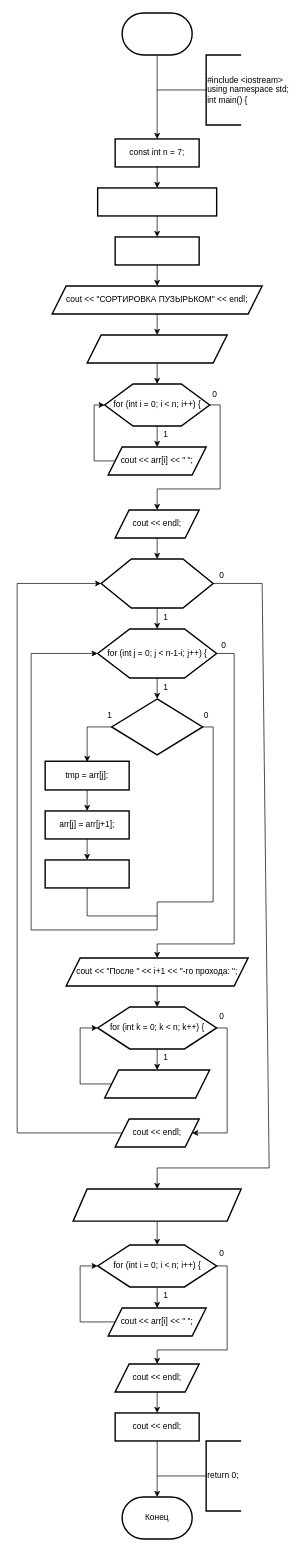
This 302x1551 diagram has some shape labels left out. Here are the shapes that lost their labels. From the top down, the box of each, then its label:
(121, 12, 192, 55): Начало
(97, 187, 217, 216): int arr[n] = {5, 2, 4, 6, 0, 1, 3};
(114, 236, 200, 265): int tmp;
(86, 334, 227, 363): cout << "Исходный массив: ";
(100, 558, 214, 608): for (int i = 0; i < n-1; i++) {
(111, 698, 203, 755): if (arr[j] > arr[j+1]) {
(44, 859, 130, 888): arr[j+1] = tmp;
(104, 1069, 210, 1098): cout << arr[k] << " ";
(72, 1188, 241, 1222): cout << "Отсортированный массив: ";
